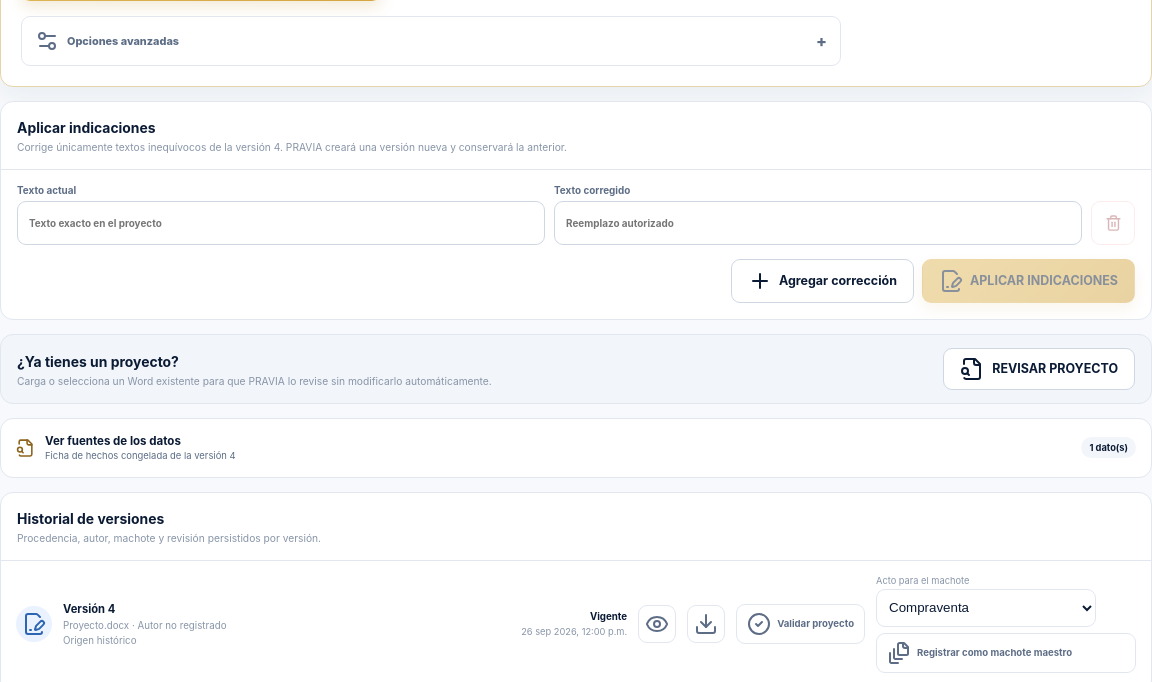
EXP-010 · Proyecto y revisión notarial › expone la ficha de hechos congelada y su procedencia sin alterar el proyecto
(page scrolled)
Step 1. Click the text "Ver fuentes de los datos" → [113, 441], box [45,434,181,448]
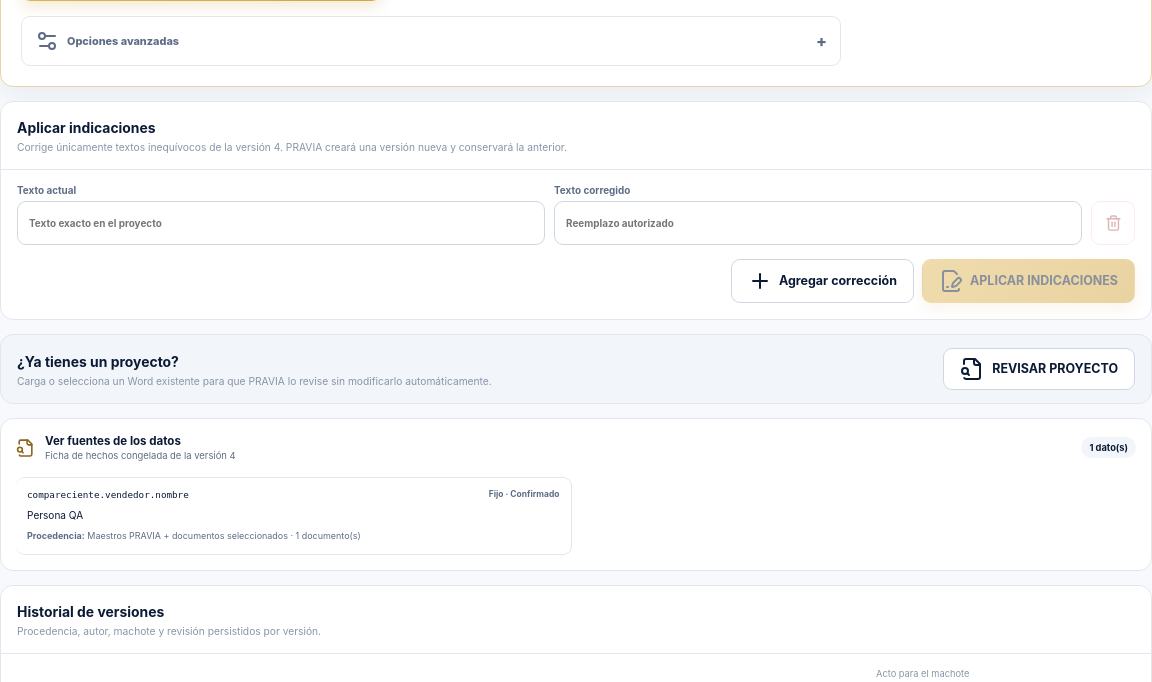
Result: the text "compareciente.vendedor.nombre" is shown at [27,489,189,500]
Result: the text "Persona QA" is shown at [27,509,83,521]
Result: the text "Maestros PRAVIA + documentos seleccionados" is shown at [87,530,288,541]
